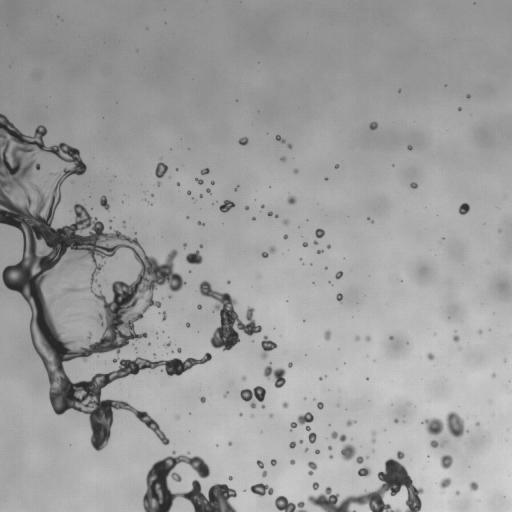droplet: (307, 450, 423, 511), (142, 451, 236, 511), (198, 280, 261, 350), (422, 411, 467, 437), (290, 412, 316, 443), (240, 386, 266, 408), (264, 364, 285, 387), (261, 335, 276, 359), (250, 483, 273, 496), (341, 444, 355, 460), (185, 251, 202, 264), (155, 161, 167, 178), (440, 454, 453, 469), (219, 200, 234, 212), (357, 466, 371, 477), (100, 195, 109, 210), (308, 461, 317, 475), (458, 203, 469, 214), (439, 478, 451, 488), (315, 228, 324, 238), (469, 481, 478, 491), (275, 135, 285, 143), (238, 137, 248, 145), (323, 330, 331, 340), (369, 121, 377, 130), (287, 196, 296, 204), (335, 271, 342, 279), (427, 352, 434, 360), (430, 440, 438, 447), (346, 420, 355, 426), (356, 456, 363, 463), (201, 168, 209, 174), (336, 293, 342, 301), (257, 460, 263, 468), (312, 482, 318, 490), (196, 178, 203, 184), (410, 182, 417, 188), (453, 334, 459, 341), (317, 402, 323, 409), (289, 441, 295, 448), (270, 459, 276, 466), (161, 312, 166, 320), (282, 402, 288, 408), (262, 470, 267, 477), (164, 342, 170, 347), (197, 221, 204, 225), (407, 145, 412, 150), (302, 242, 307, 247), (365, 336, 370, 341), (200, 397, 205, 402), (290, 459, 295, 464), (281, 156, 285, 161), (293, 169, 298, 173), (206, 188, 210, 193), (283, 220, 288, 224), (197, 304, 201, 309), (177, 347, 181, 352), (288, 362, 292, 367), (242, 376, 246, 381), (315, 449, 319, 454), (466, 94, 470, 98), (187, 190, 191, 194), (245, 206, 249, 210), (283, 235, 287, 239), (186, 323, 190, 327), (355, 336, 359, 340), (269, 413, 273, 417), (394, 419, 398, 423), (268, 212, 273, 215), (317, 250, 322, 253), (288, 144, 291, 148), (335, 164, 338, 168), (313, 241, 317, 244), (389, 336, 393, 339), (261, 404, 264, 408), (475, 422, 479, 425), (328, 446, 331, 450), (304, 448, 308, 451), (211, 181, 214, 184), (157, 182, 160, 185), (234, 187, 237, 190), (252, 217, 255, 220), (183, 244, 186, 247), (327, 245, 330, 248), (478, 330, 481, 333), (224, 393, 227, 396), (239, 413, 242, 416), (299, 440, 302, 443), (228, 442, 231, 445), (329, 455, 332, 458), (458, 108, 461, 110), (325, 177, 327, 180), (261, 205, 264, 207), (275, 215, 278, 217), (227, 281, 230, 283), (98, 284, 100, 287), (492, 374, 495, 376), (319, 377, 321, 380), (229, 477, 232, 479), (456, 492, 459, 494), (177, 183, 179, 185), (200, 195, 202, 197), (109, 219, 111, 221), (123, 225, 125, 227), (200, 245, 202, 247), (169, 295, 171, 297), (176, 416, 178, 418)
ligament: (0, 113, 211, 450), (275, 495, 307, 511), (261, 246, 275, 257), (331, 431, 346, 441), (63, 287, 84, 293), (371, 431, 375, 442), (367, 217, 373, 222)
